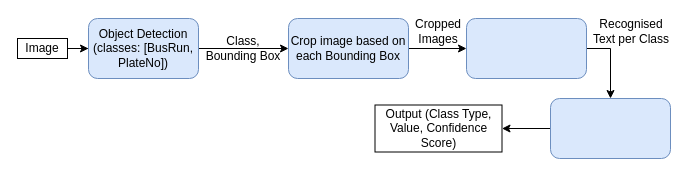
The diagram is 694 pixels wide and 176 high, and some of its shapes have lost their labels. Here are the shapes that lost their labels. From the top down, the centre of each, then its label:
(526,48): Text Recognition (Using gvision api)
(610,128): Use regex to filter valid text based on class type
